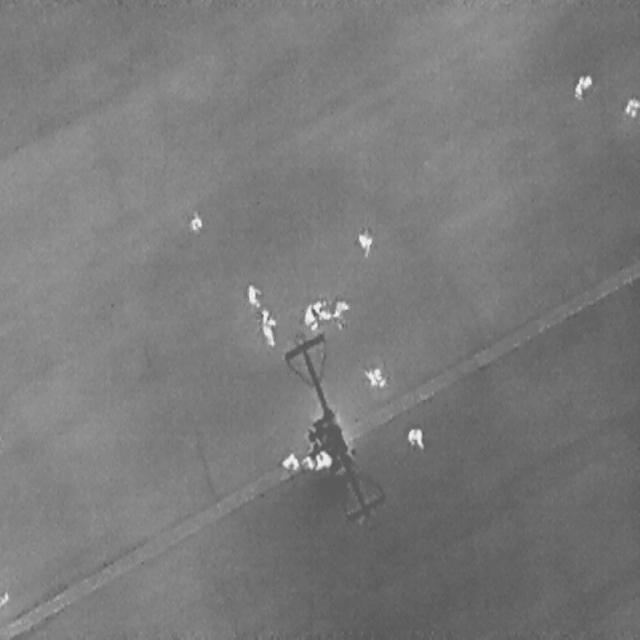Person: (299, 295, 332, 335), (259, 306, 278, 346), (570, 69, 592, 101), (331, 296, 350, 322), (356, 230, 372, 258), (364, 367, 385, 388), (406, 426, 423, 449), (314, 448, 331, 470), (281, 451, 299, 470), (625, 94, 638, 118), (246, 283, 259, 305), (189, 215, 202, 231)
